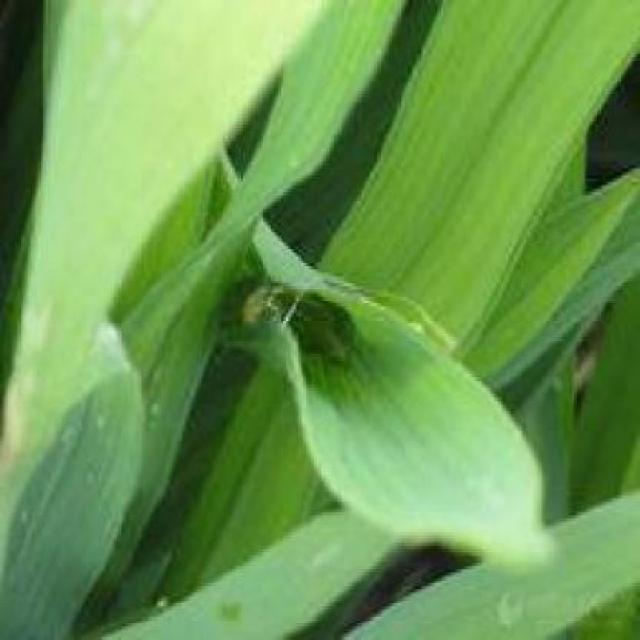leaf-folder: (222, 256, 364, 384)
